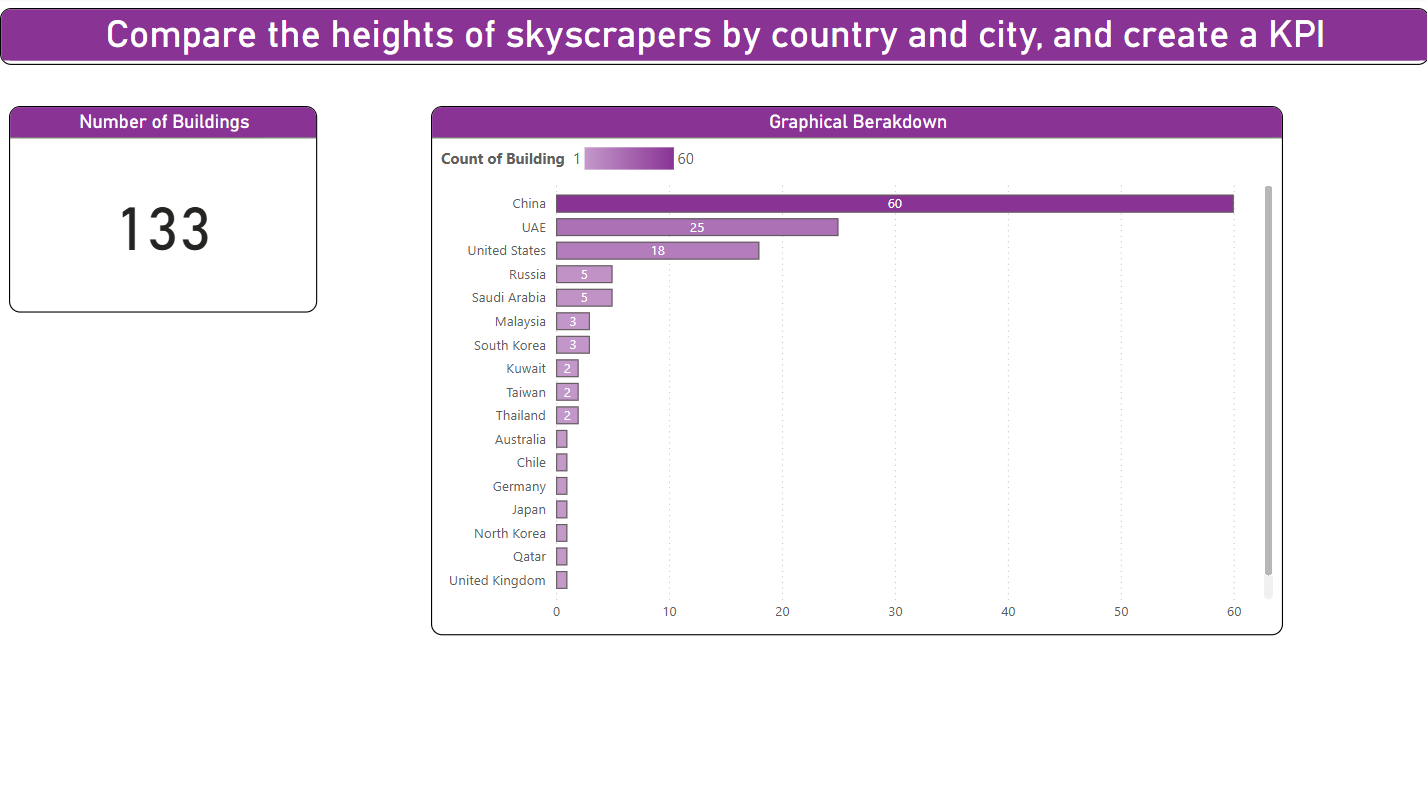

Layout of this report page (visuals, bound fields, positions):
{"tool":"powerbi","page":{"name":"Preview","canvas":[1280,720],"ordinal":0},"visuals":[{"type":"textbox","title":"Compare the heights of skyscrapers by country and city, and create a KPI","box":[0,9.9,1279.7,51.5],"z":0},{"type":"cardVisual","title":"Number of Buildings","fields":{"Data":["CountNonNull(Skyscrapers.Building)"]},"box":[7.9,98,276.1,185.1],"z":1},{"type":"barChart","title":"Graphical Berakdown","fields":{"Y":["CountNonNull(Skyscrapers.Building)"],"Category":["Skyscrapers.Country","Skyscrapers.City Hierarchy.City"]},"box":[386,98,763.1,474.1],"z":2}]}

Visuals, with their boxes in screenshot pixels (x1, y1, x2, y2), scaled from the page's 1280x720 canvas onto the 1427x798 screenshot:
"Compare the heights of skyscrapers by country and city, and create a KPI" textbox: box(0, 11, 1426, 68)
"Number of Buildings" cardVisual: box(9, 109, 317, 314)
"Graphical Berakdown" barChart: box(430, 109, 1281, 634)
